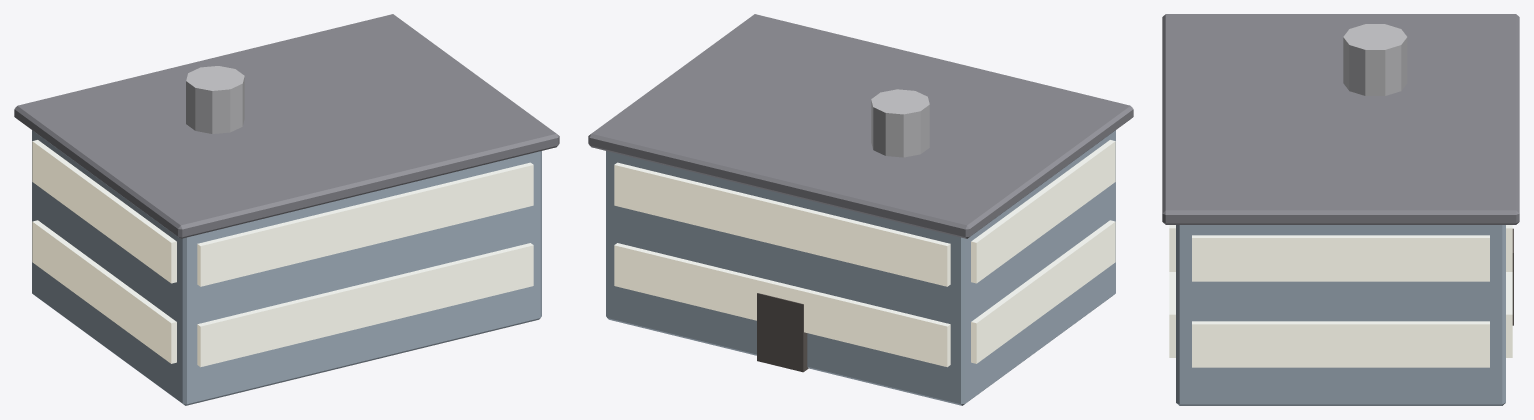
The model's file is bld_3_2.glb.
3 renders of one model, left to right at view 1: azimuth 30°, elevation 25°; view 2: azimuth 150°, elevation 25°; view 3: azimuth 270°, elevation 25°, orthographic. The views are drawn at different scales.
Visible parts, largest first — view 1: rf, w, bz2.001, bz2, bx2, bx2.001, tank; view 2: rf, w, bz1.001, bz1, bx2, bx2.001, tank, door; view 3: rf, w, bx1, bx1.001, tank, bz1, bz2, bz1.001, bz2.001.
Part boxes in pixels (x1=…): rf: x1=14, y1=14, x2=559, y2=238; w: x1=32, y1=130, x2=541, y2=405; bz2.001: x1=197, y1=162, x2=533, y2=286; bz2: x1=197, y1=243, x2=533, y2=367; bx2: x1=32, y1=220, x2=176, y2=363; bx2.001: x1=32, y1=140, x2=176, y2=283; tank: x1=186, y1=66, x2=244, y2=133; rf: x1=588, y1=14, x2=1133, y2=238; w: x1=606, y1=130, x2=1115, y2=405; bz1.001: x1=614, y1=162, x2=950, y2=286; bz1: x1=614, y1=243, x2=950, y2=367; bx2: x1=971, y1=220, x2=1115, y2=363; bx2.001: x1=971, y1=140, x2=1115, y2=283; tank: x1=871, y1=89, x2=929, y2=157; door: x1=757, y1=293, x2=808, y2=372; rf: x1=1162, y1=14, x2=1519, y2=224; w: x1=1176, y1=225, x2=1505, y2=405; bx1: x1=1192, y1=321, x2=1489, y2=367; bx1.001: x1=1192, y1=235, x2=1489, y2=281; tank: x1=1343, y1=24, x2=1407, y2=95; bz1: x1=1506, y1=272, x2=1512, y2=357; bz2: x1=1169, y1=272, x2=1175, y2=357; bz1.001: x1=1506, y1=225, x2=1512, y2=271; bz2.001: x1=1169, y1=225, x2=1175, y2=271.
Bounding box in the file's own units: 4.12 × 2.39 × 3.12.
